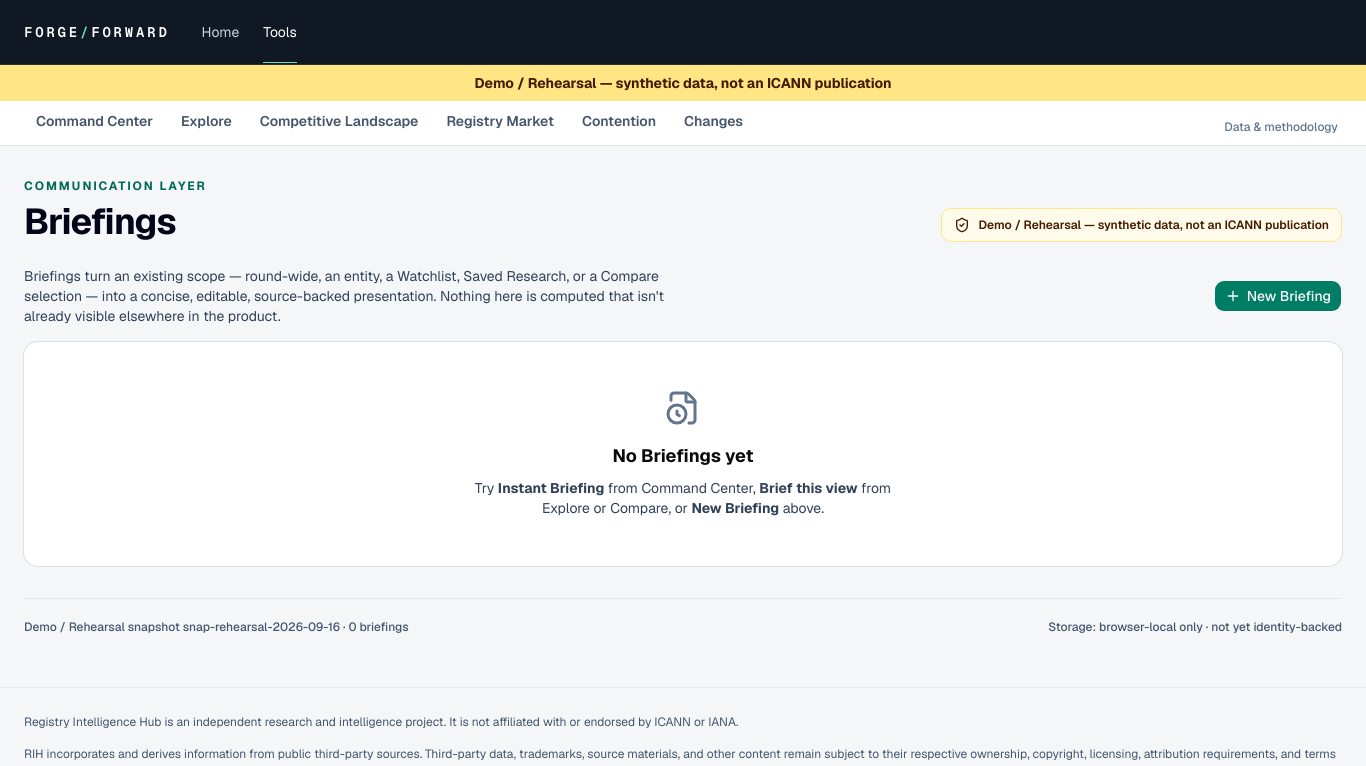
Guided Briefing — secondary entry path › orders audiences Executive, Commercial, Product & Strategy, Marketing and applies audience-appropriate defaults
Click the button "New Briefing". click: point(1278, 296)
box: [1214, 280, 1342, 312]
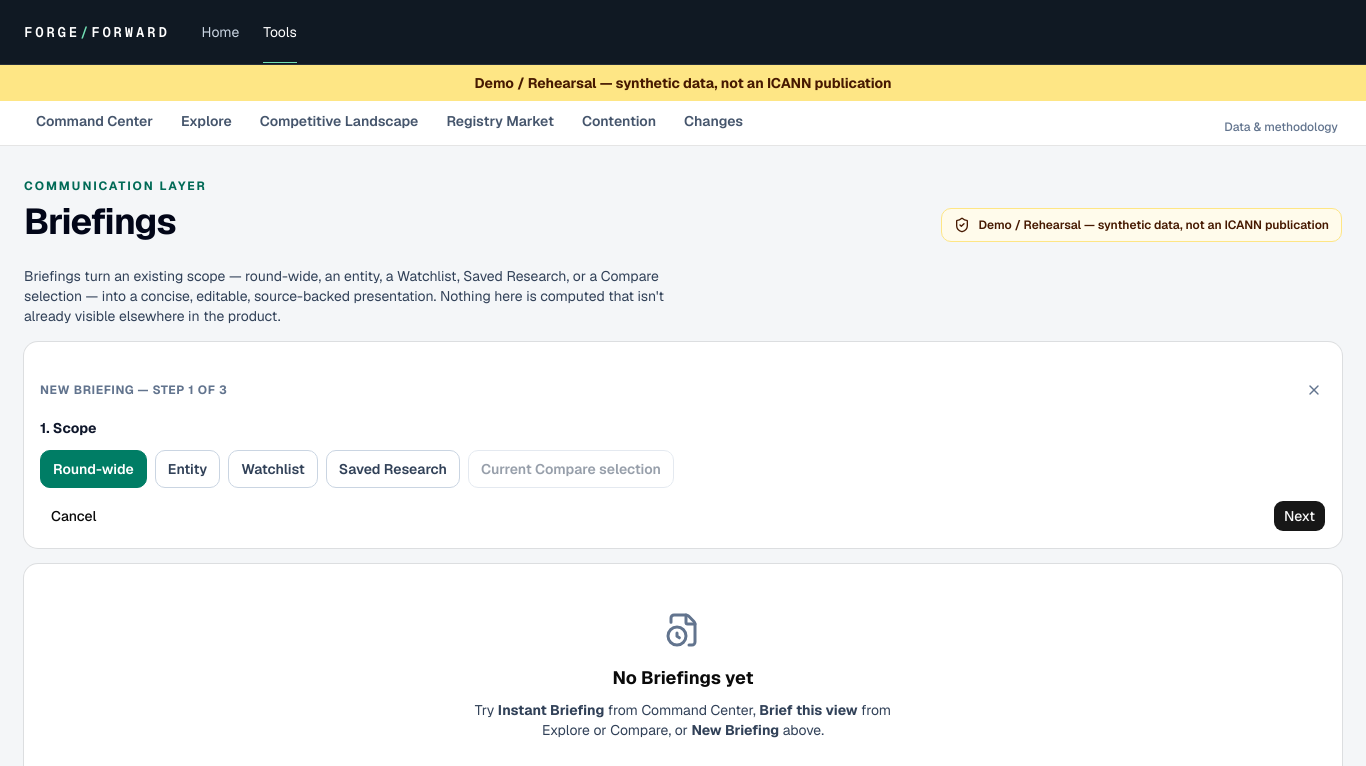
Click the button "Next". click: point(1299, 516)
box: [1273, 500, 1326, 532]
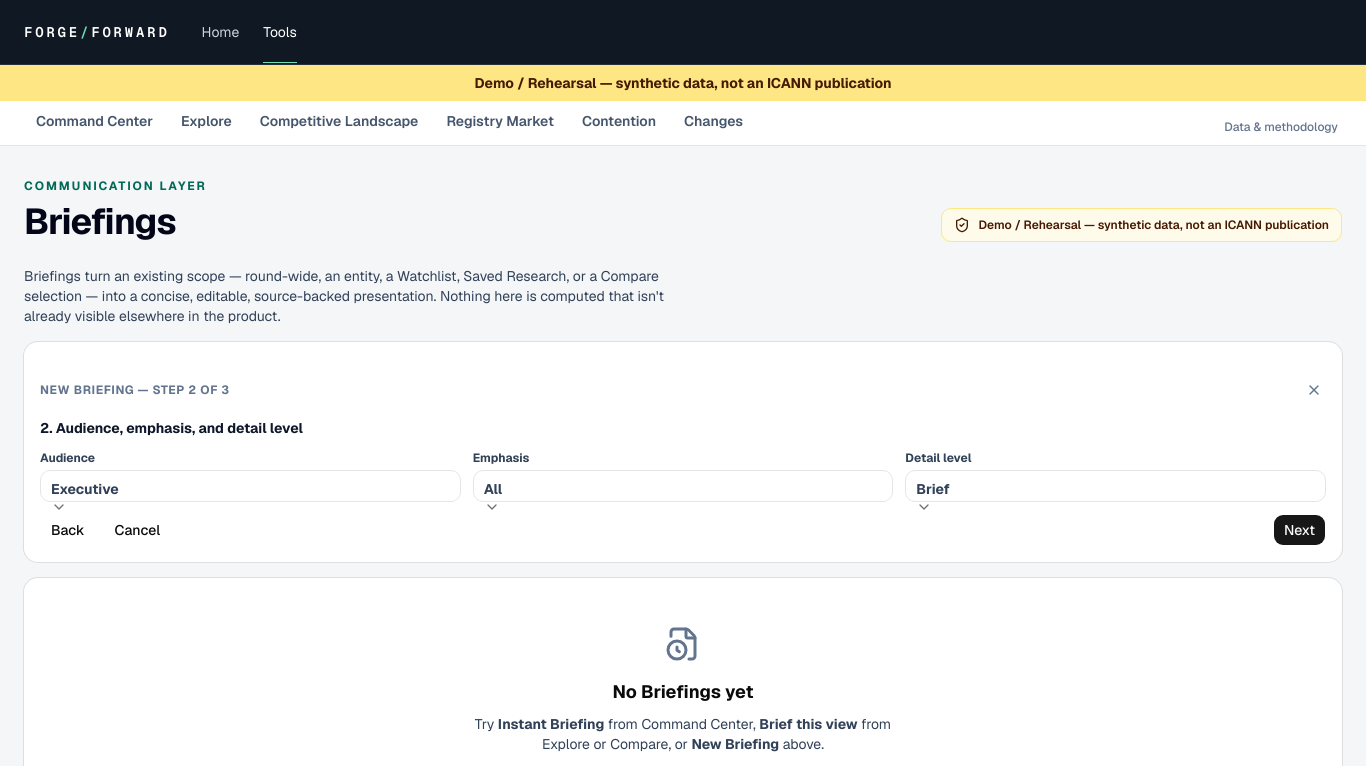
Click the dropdown named "Audience". click: point(85, 488)
box: [40, 470, 461, 502]
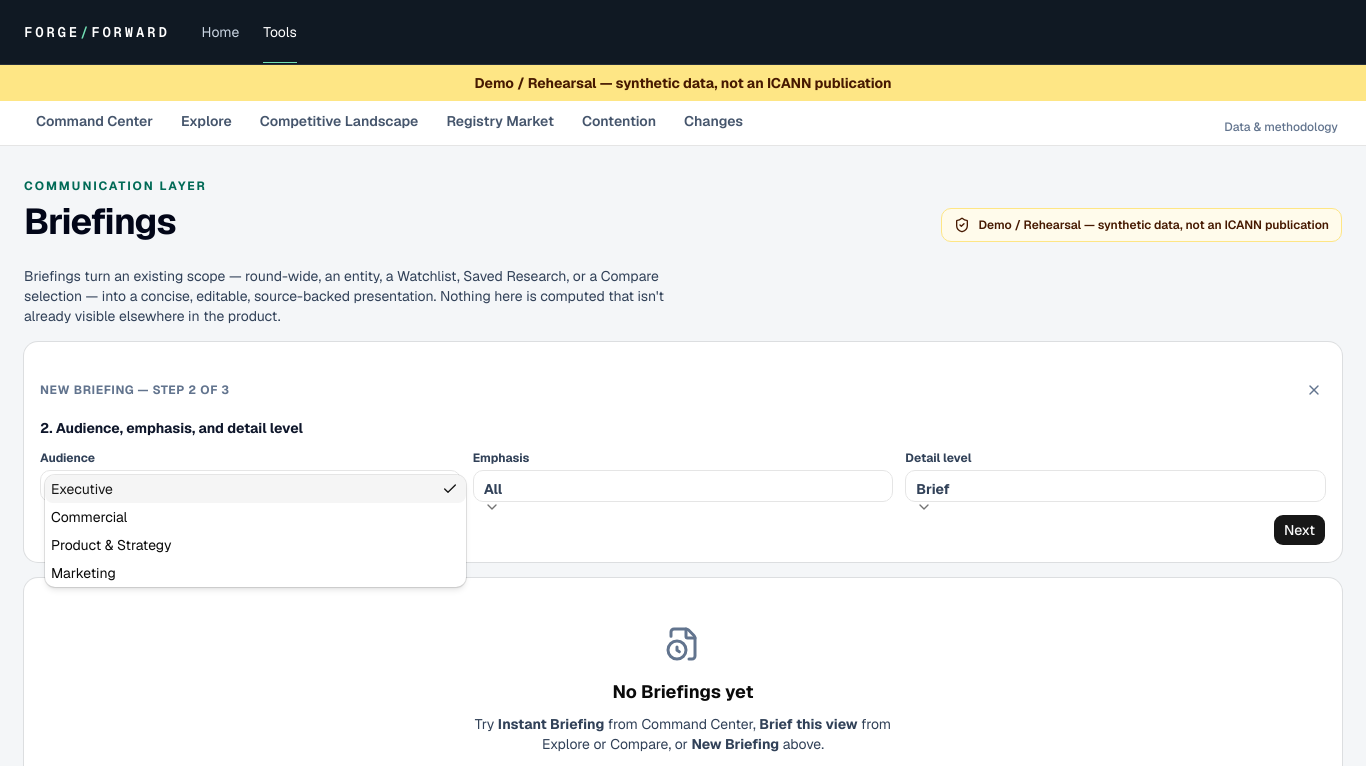
Press Escape
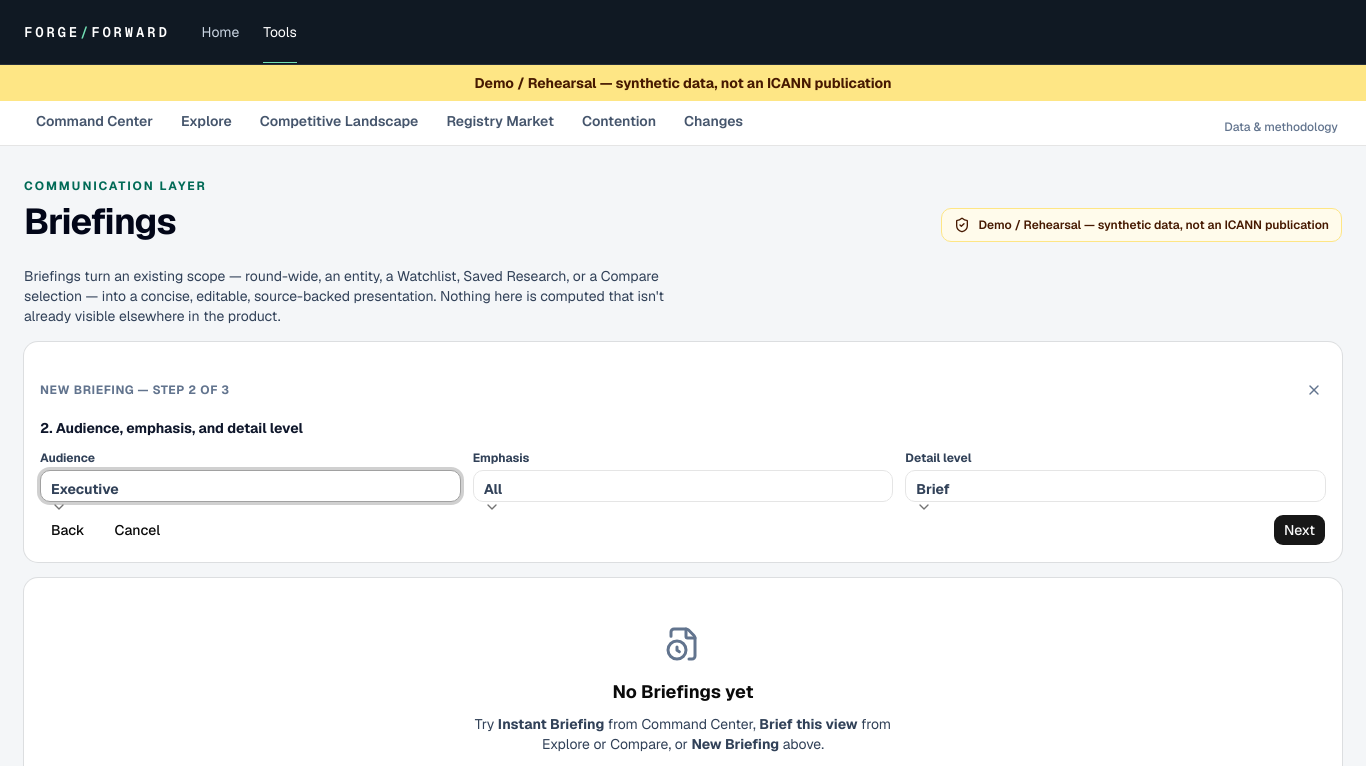
Click the dropdown named "Audience". click: point(85, 488)
box: [40, 470, 461, 502]
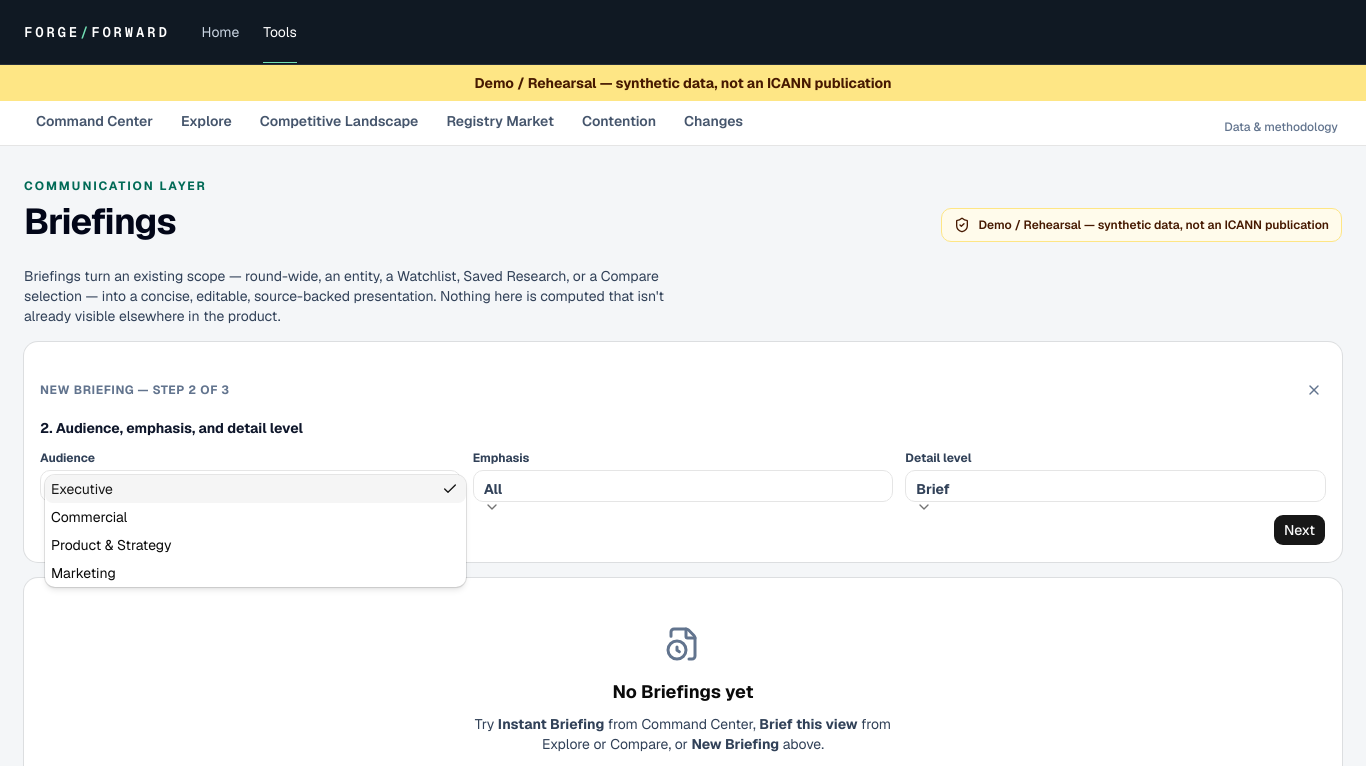
Click the option "Marketing". click: point(83, 572)
box: [51, 564, 116, 582]
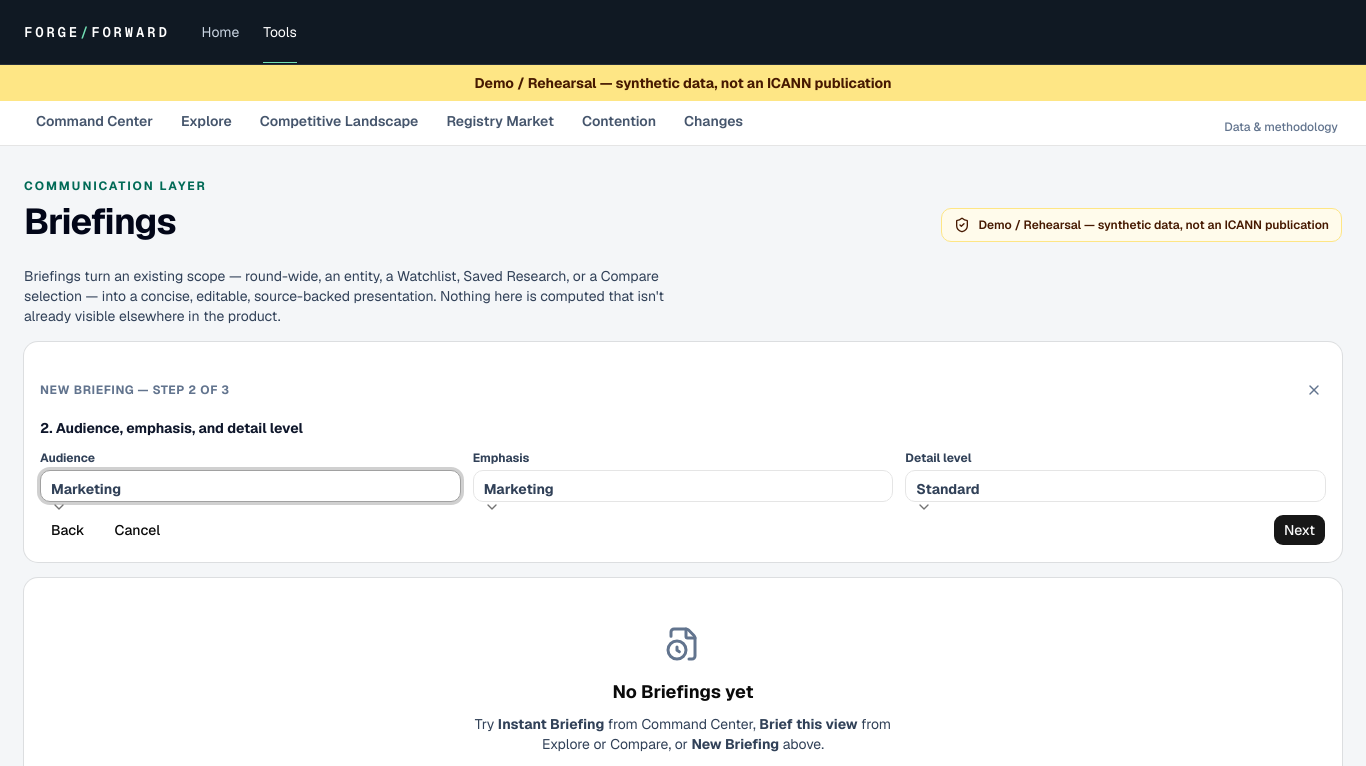
expect the dropdown named "Emphasis" shows "Marketing": met, box [473, 470, 893, 502]
expect the dropdown named "Detail level" shows "Standard": met, box [905, 470, 1326, 502]
